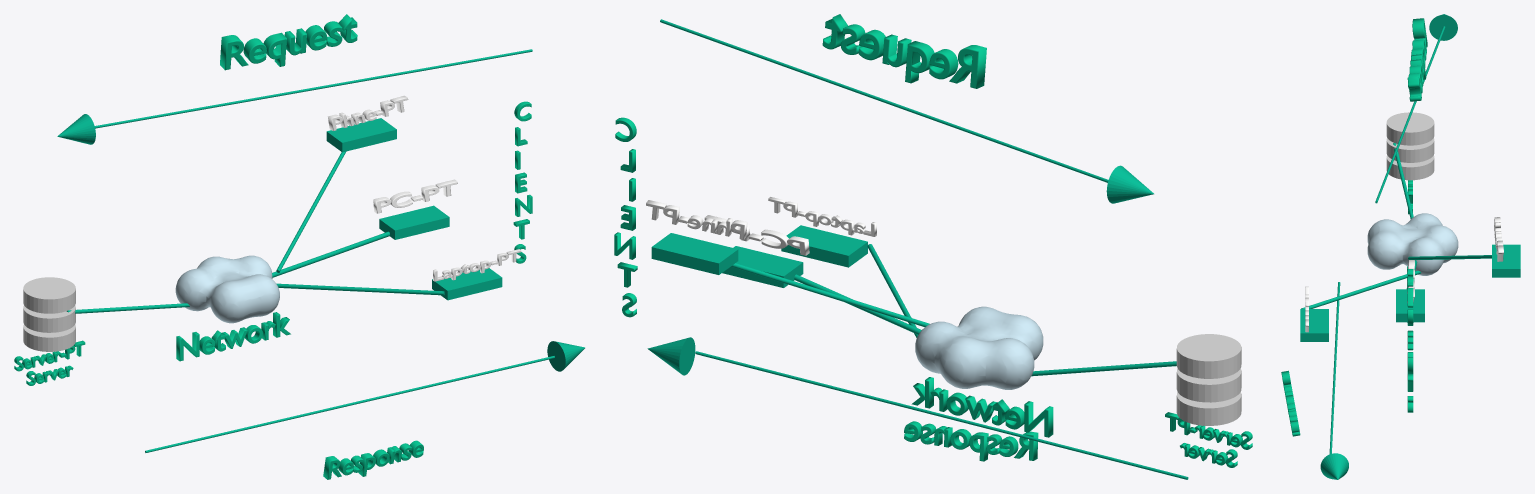
The model's file is client-server.glb.
3 views of the same model, side by side, from view 1: azimuth 30°, elevation 25°; view 2: azimuth 150°, elevation 25°; view 3: azimuth 270°, elevation 25° (orthographic). The views are drawn at different scales.
Visible parts, largest first — view 1: Network-Cloud.001, Text.008, Text.001, Text.006, Server-Disk-3, PC-PT, Phne-PT, Request-Shaft, Laptop-PT, Response-Shaft, Text.005, Text (+10 smaller); view 2: Network-Cloud.001, Text.008, Text.001, Text.006, Server-Disk-3, Phne-PT, Laptop-PT, Text.005, Response-Shaft, Request-Shaft, Text, PC-PT (+9 smaller); view 3: Network-Cloud.001, Server-Disk-3, Text.008, Text.005, Laptop-PT, Phne-PT, PC-PT, Server-Disk-2, Server-Disk-1, Response-Head, Request-Head, Text.006 (+6 smaller).
Part boxes in pixels (x1,y1,x2,y2): Network-Cloud.001: (175,255,279,323); Text.008: (220,14,357,70); Text.001: (176,312,290,361); Text.006: (323,440,423,479); Server-Disk-3: (23,277,75,313); PC-PT: (379,205,449,239); Phne-PT: (326,118,396,152); Request-Shaft: (94,49,532,128); Laptop-PT: (432,268,502,300); Response-Shaft: (145,356,554,452); Text.005: (513,101,532,263); Text: (14,340,85,385); Network-Cloud.001: (915,306,1043,389); Text.008: (822,14,986,88); Text.001: (911,377,1053,437); Text.006: (904,421,1038,461); Server-Disk-3: (1176,334,1241,378); Phne-PT: (651,233,738,274); Laptop-PT: (781,225,867,267); Text.005: (614,117,637,317); Response-Shaft: (695,351,1188,479); Request-Shaft: (660,19,1108,182); Text: (1165,412,1252,467); PC-PT: (722,246,803,287); Network-Cloud.001: (1367,213,1458,275); Server-Disk-3: (1386,112,1434,145); Text.008: (1407,18,1427,101); Text.005: (1407,269,1413,412); Laptop-PT: (1300,309,1328,341); Phne-PT: (1492,244,1520,277); PC-PT: (1396,289,1424,322); Server-Disk-2: (1386,138,1434,162); Server-Disk-1: (1386,155,1434,180); Response-Head: (1320,453,1348,479); Request-Head: (1429,14,1457,40); Text.006: (1281,370,1300,436).
Bounding box in the file's own units: 11.63 × 8.43 × 5.
